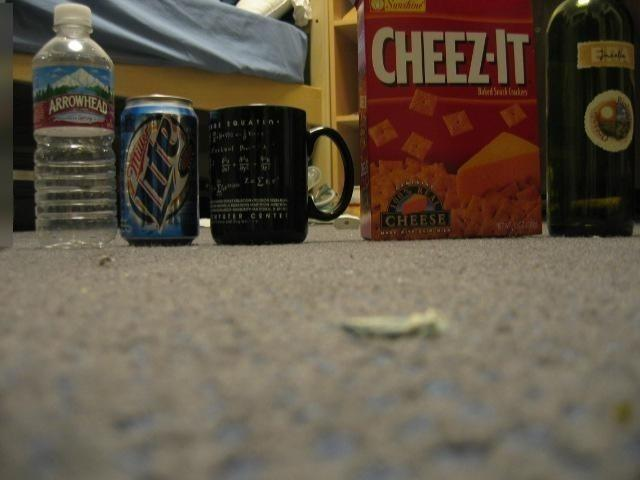bottle-glass: (546, 0, 638, 236)
bottle-plastic: (29, 3, 119, 247)
cup-handle: (208, 101, 356, 245)
tin can: (116, 95, 201, 247)
